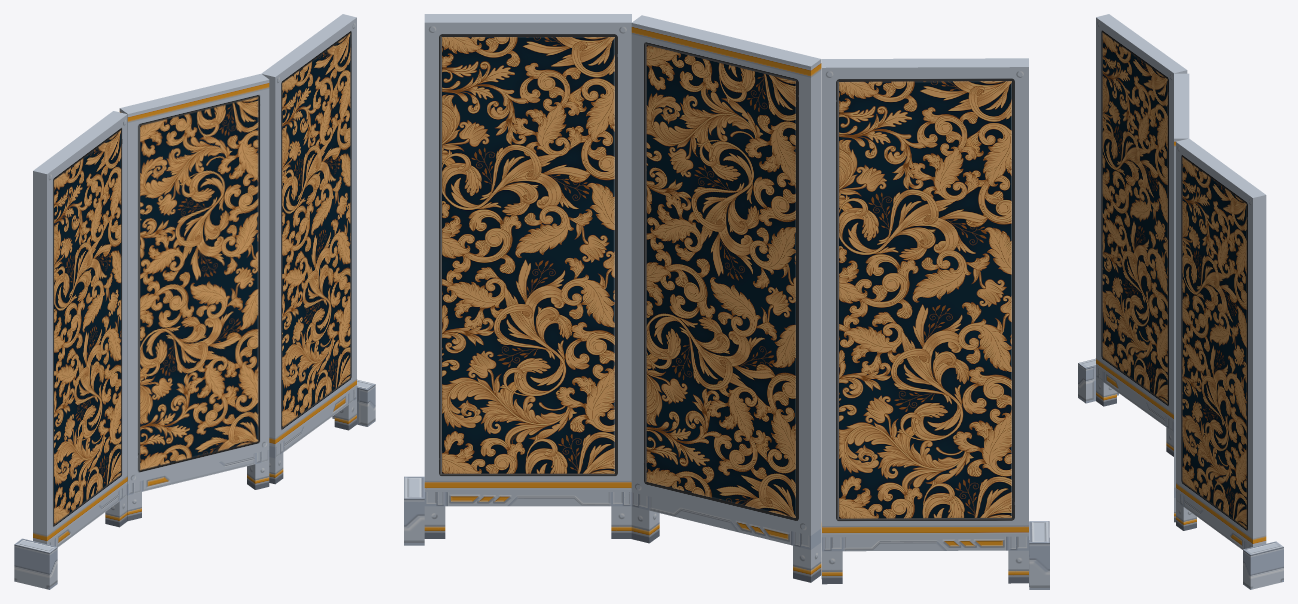
File: Curtain.dae
The picture shows the model from 3 angles, left to right: view 1: azimuth 30°, elevation 25°; view 2: azimuth 150°, elevation 25°; view 3: azimuth 270°, elevation 25°; orthographic projection. The views are drawn at different scales.
Visible parts, largest first — view 1: Cube.002, Cube.005, Cube, Cube.004, Cube.001, Cube.003; view 2: Cube.005, Cube, Cube.002, Cube.001, Cube.004, Cube.003; view 3: Cube, Cube.005, Cube.001, Cube.004, Cube.002.
Part boxes in pixels (x1,y1,x2,y2): Cube.002: [119, 73, 269, 483]; Cube.005: [33, 111, 127, 544]; Cube: [261, 14, 356, 447]; Cube.004: [14, 484, 127, 589]; Cube.001: [269, 379, 375, 484]; Cube.003: [127, 450, 269, 520]; Cube.005: [821, 58, 1028, 537]; Cube: [424, 14, 631, 491]; Cube.002: [631, 15, 821, 535]; Cube.001: [404, 476, 631, 545]; Cube.004: [821, 521, 1049, 589]; Cube.003: [631, 492, 821, 582]; Cube: [1176, 138, 1266, 546]; Cube.005: [1096, 14, 1187, 421]; Cube.001: [1176, 491, 1283, 589]; Cube.004: [1078, 358, 1173, 456]; Cube.002: [1174, 73, 1189, 487].
Bounding box in the file's own units: 2.87 × 1.25 × 2.57.
